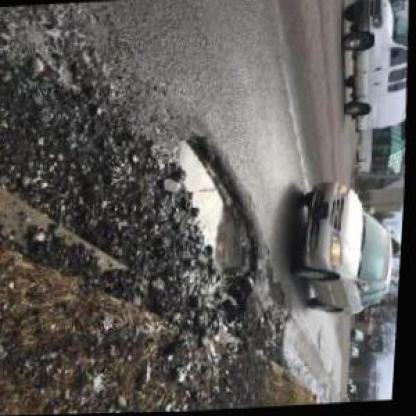pothole: (168, 131, 273, 296), (265, 268, 297, 316)
